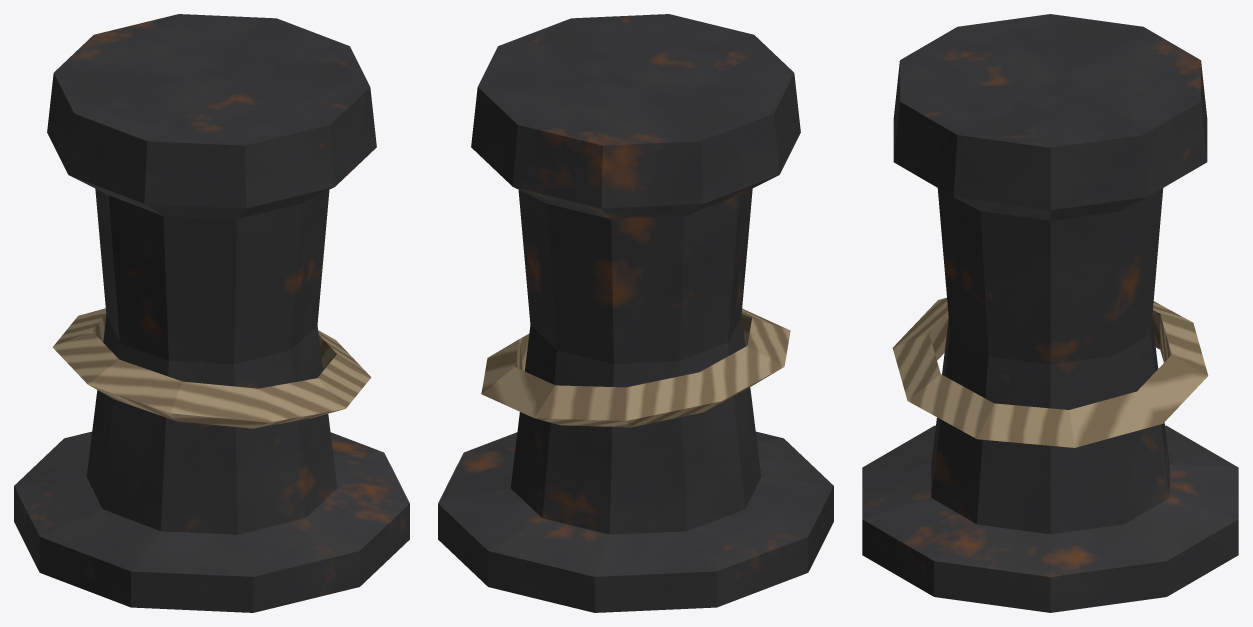
The model's file is 부두_계선주.fbx.
3 renders of one model, left to right at view 1: azimuth 30°, elevation 25°; view 2: azimuth 150°, elevation 25°; view 3: azimuth 270°, elevation 25°, orthographic.
Visible parts, largest first — view 1: 부두_계선주; view 2: 부두_계선주; view 3: 부두_계선주.
Boxes of the visible parts, x1,y1,x2,y2 form: 부두_계선주: [14, 14, 409, 612]; 부두_계선주: [438, 14, 833, 612]; 부두_계선주: [862, 14, 1238, 612].
Size of the model in its own units: 120 by 150 by 114.
2 materials, 2 textured.
